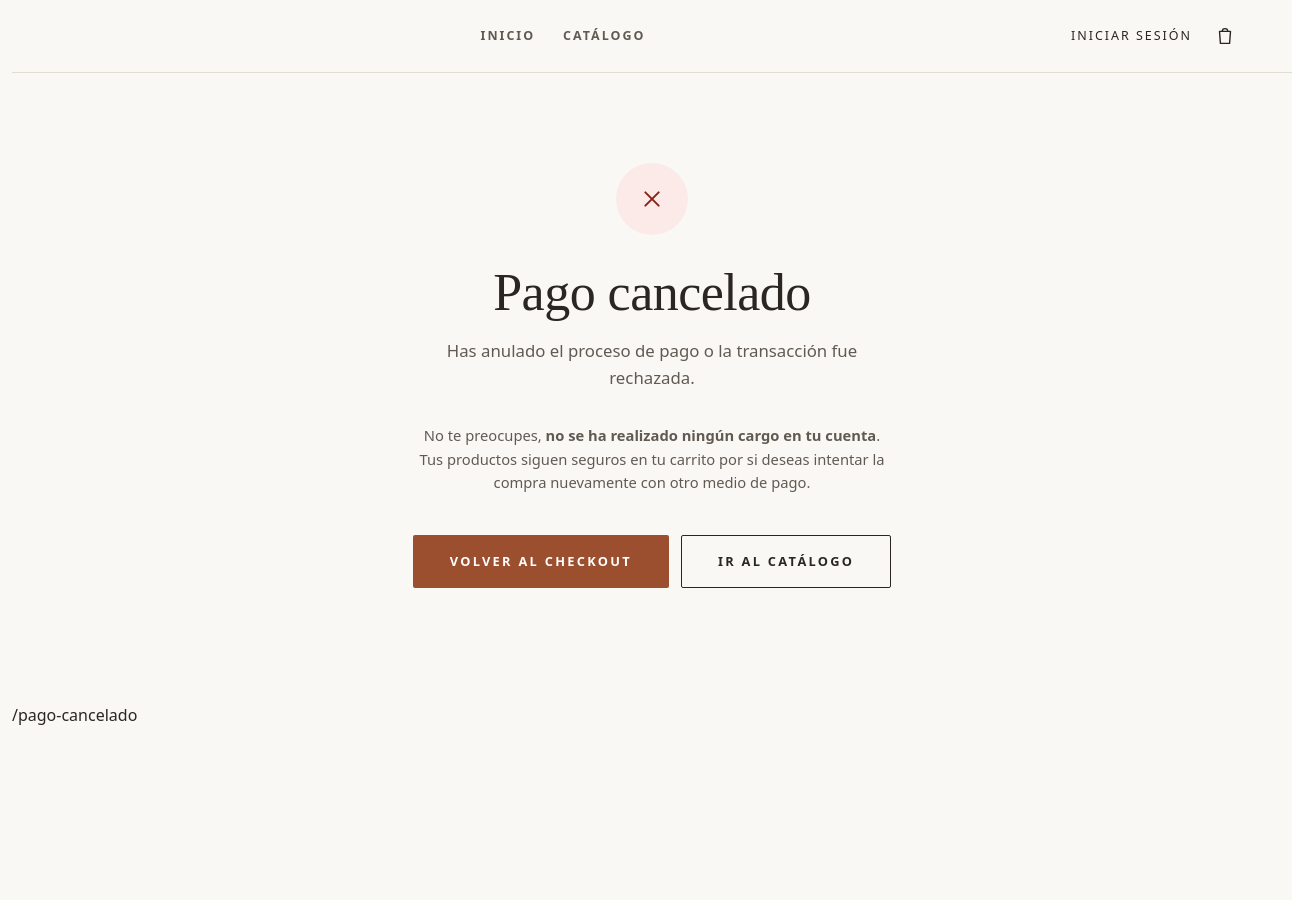
PagoCancelado › debe navegar al catálogo al presionar el botón
The width and height of the screenshot is (1292, 900).
Click the button "Ir al catálogo": (786, 561) [681,535,891,588]
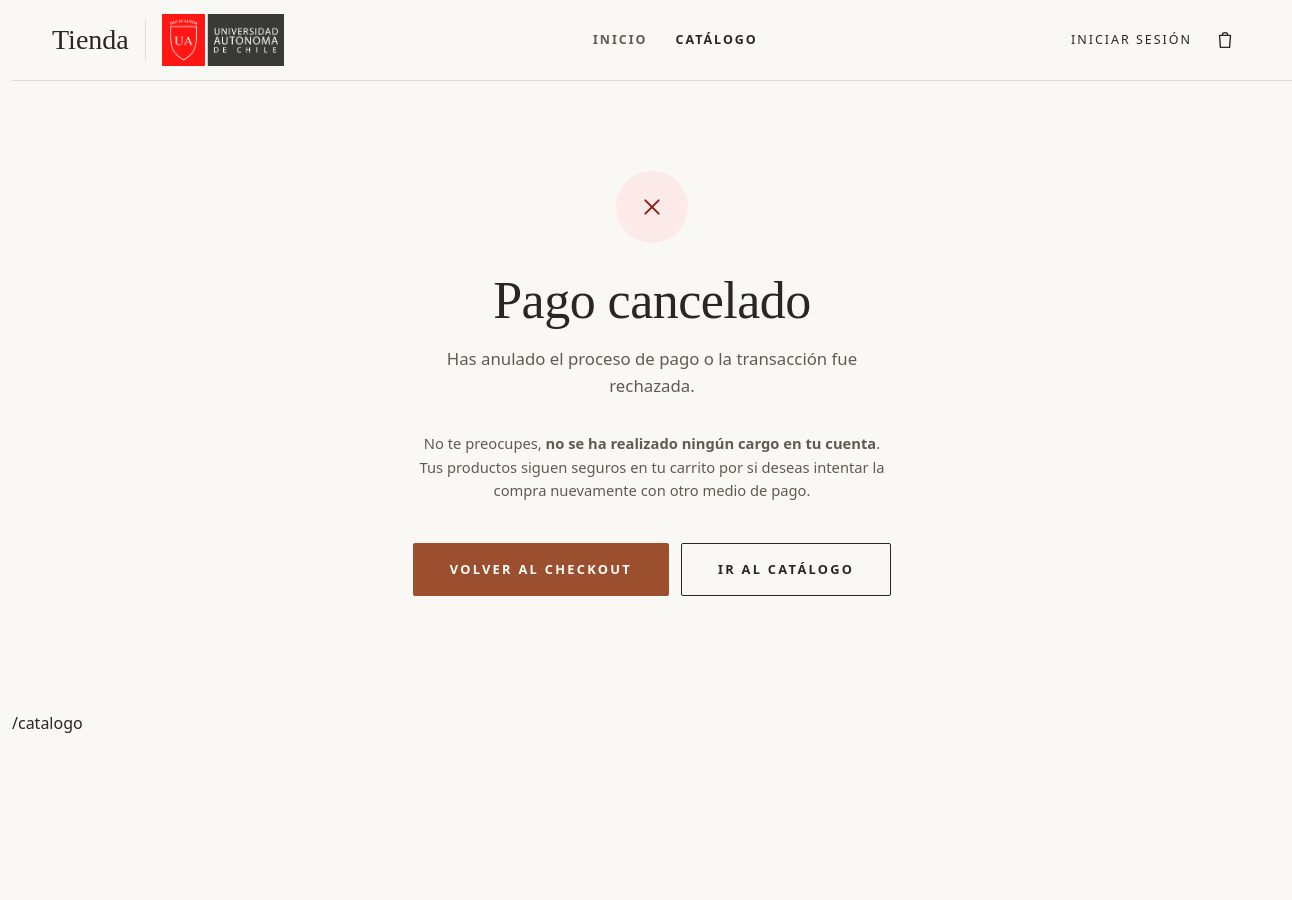
Result: the text with test id "location" reads "/catalogo" at [12,712,83,734]
